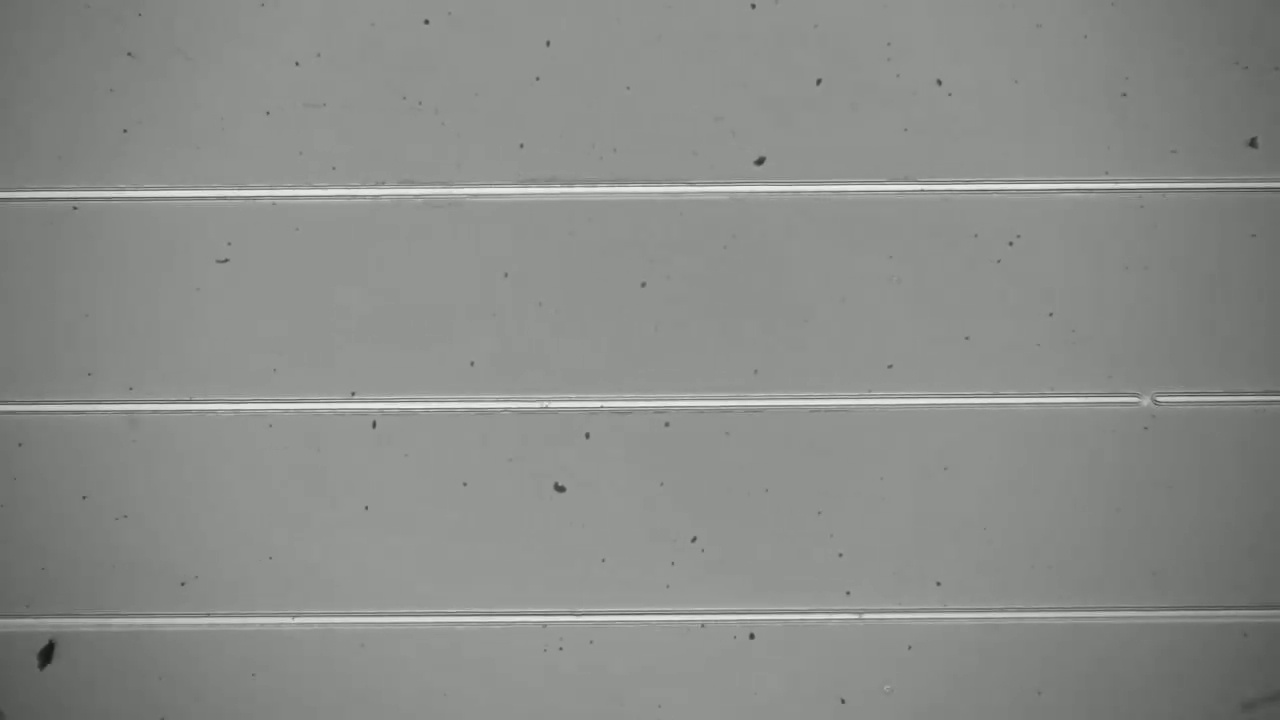open: (1120, 380, 1172, 422)
